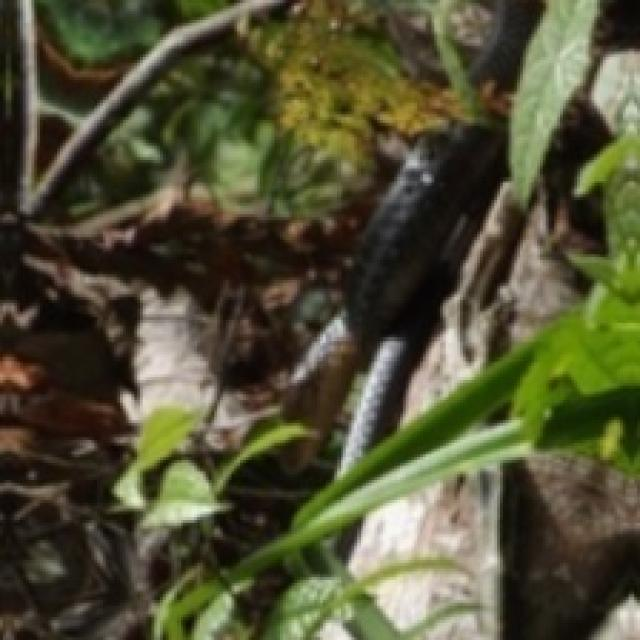king cobra: (234, 131, 637, 637), (509, 0, 594, 203)
